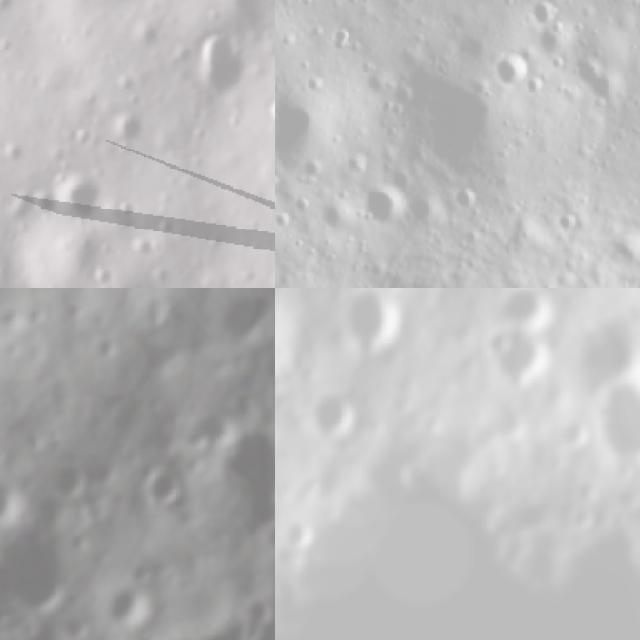crater: (382, 51, 511, 182), (0, 528, 75, 612), (186, 23, 252, 106), (218, 420, 275, 509), (575, 313, 640, 388), (51, 159, 115, 232), (343, 288, 416, 350), (598, 366, 640, 466), (275, 92, 329, 169), (568, 44, 621, 116), (174, 608, 275, 640), (105, 579, 158, 633), (222, 292, 272, 346), (138, 457, 188, 511), (318, 378, 358, 444), (495, 337, 557, 379), (493, 290, 559, 325), (109, 110, 160, 154), (358, 183, 402, 234), (399, 190, 446, 237), (194, 397, 234, 449), (492, 46, 532, 96), (219, 0, 275, 32), (275, 288, 293, 375), (53, 457, 90, 497), (316, 196, 352, 237), (558, 417, 592, 450), (526, 0, 560, 26), (0, 476, 16, 531), (286, 515, 314, 546), (488, 411, 521, 436), (4, 136, 30, 166), (481, 329, 510, 352), (111, 276, 165, 288), (570, 508, 596, 530), (574, 478, 598, 500), (320, 288, 357, 301), (525, 444, 547, 464), (302, 474, 324, 492), (302, 388, 313, 413)
